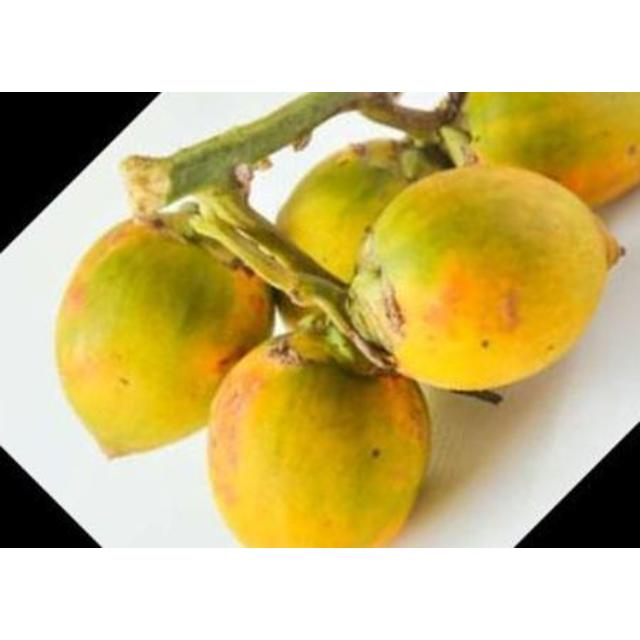good: (208, 164, 621, 547), (56, 221, 277, 461)
